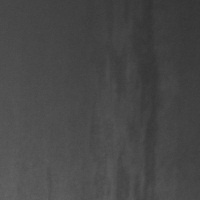inclusion: (107, 2, 161, 199)
